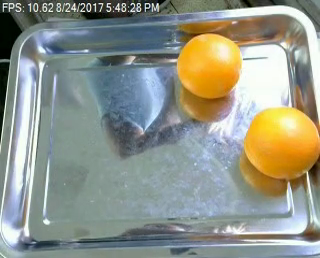Orange: (242, 106, 320, 180), (176, 34, 241, 99)
